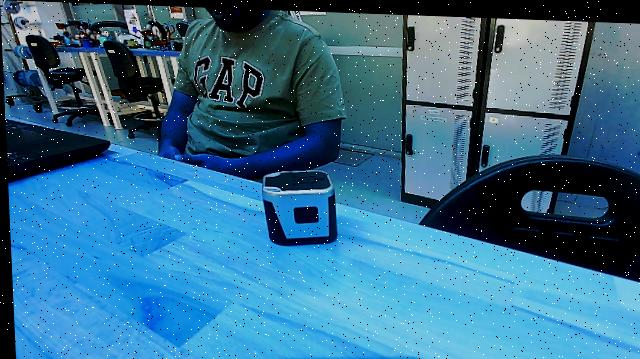adapter: (255, 165, 337, 248)
